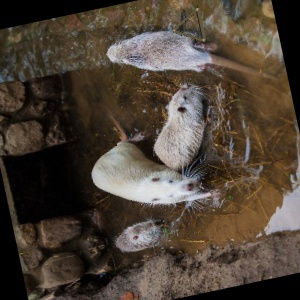triangle: (169, 5, 209, 44)
